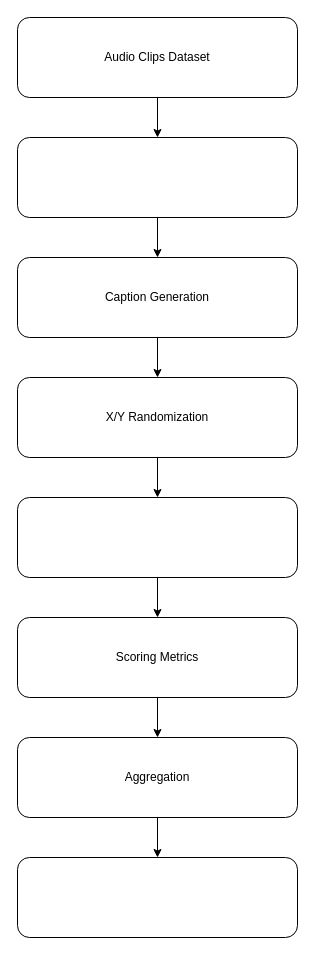
Image size: 315x955. Some labels were removed from this diagram. Each missing label, with the box of its shape:
Final Results: (16, 856, 298, 938)
Human Evaluation: (16, 496, 298, 578)
Whisper Transcription: (16, 136, 298, 218)
